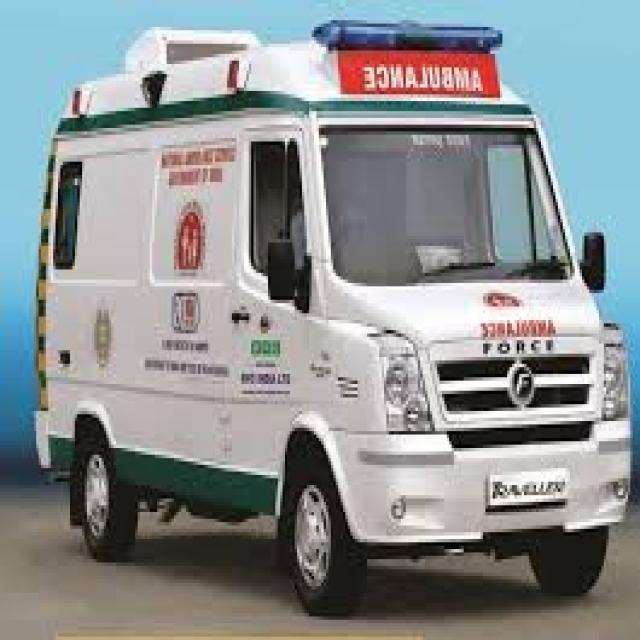emergency: (259, 22, 621, 614)
